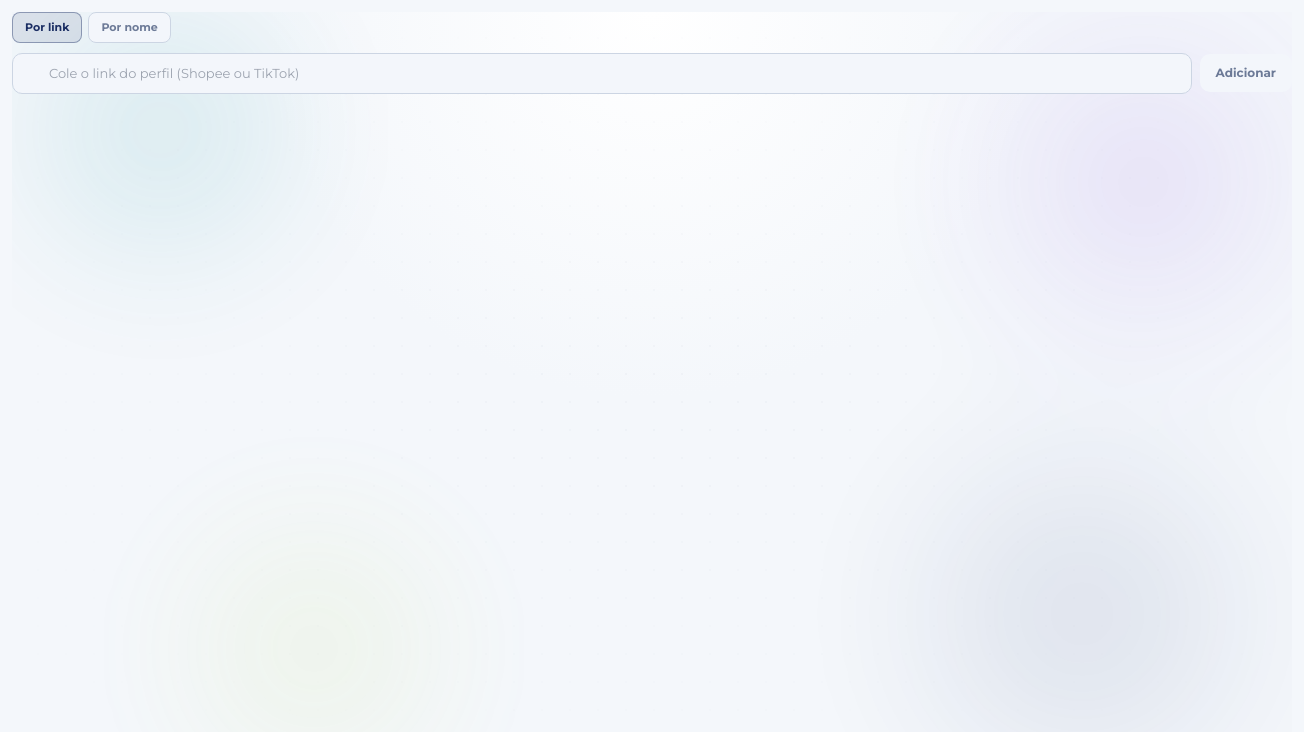
Test: AddSellerForm › shows validation error for a non-URL input in link mode
The width and height of the screenshot is (1304, 732).
Type "nao-e-url" into the field with placeholder "Cole o link do perfil (Shopee ou TikTok)".
click(602, 73); type("nao-e-url")  # box [12,52,1192,94]
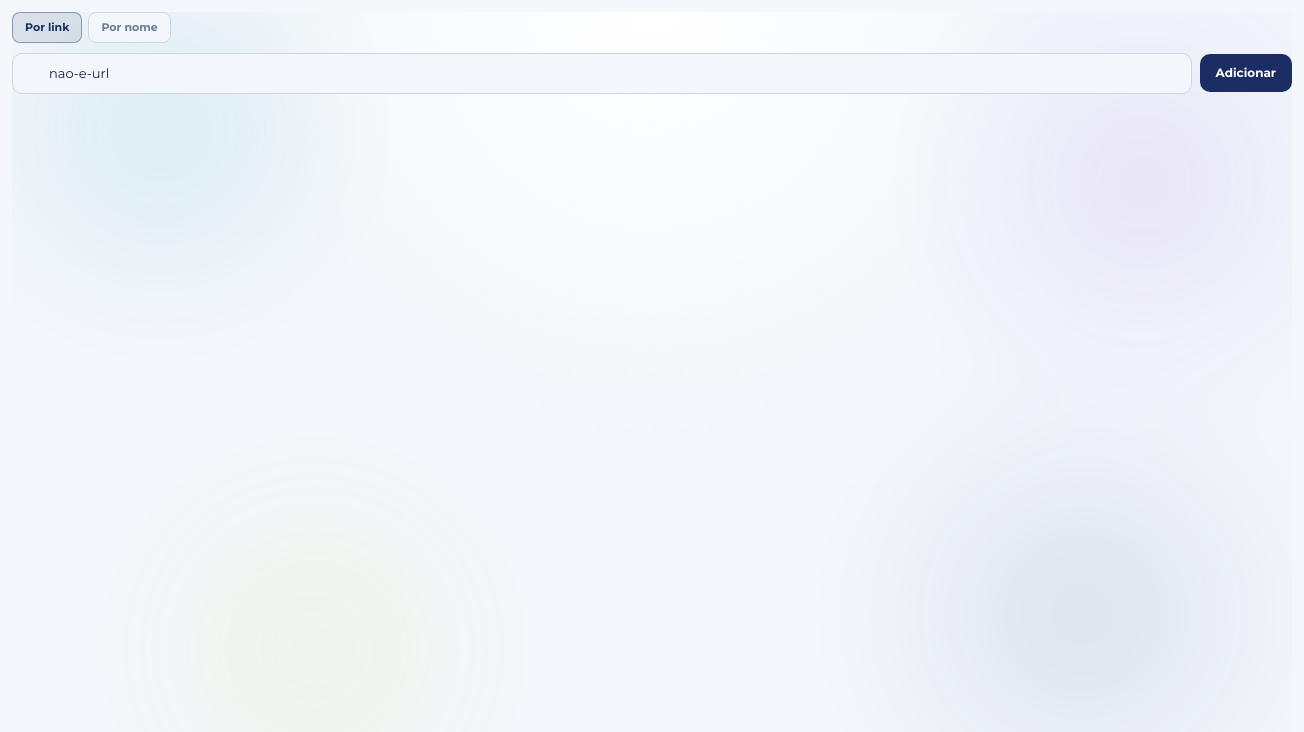
Click the button "Adicionar".
click(1246, 73)  # box [1200,54,1292,92]
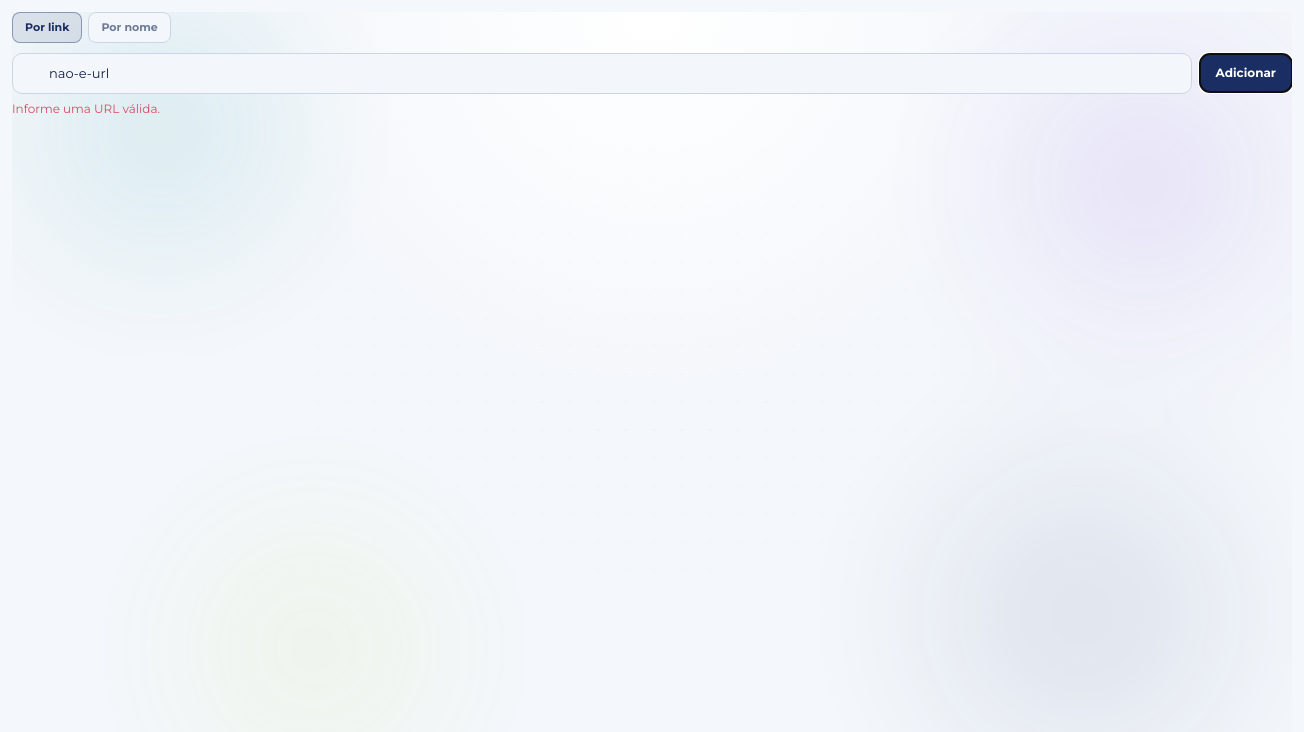
Now the message "Informe uma URL válida." is shown, box [12,101,160,116]
